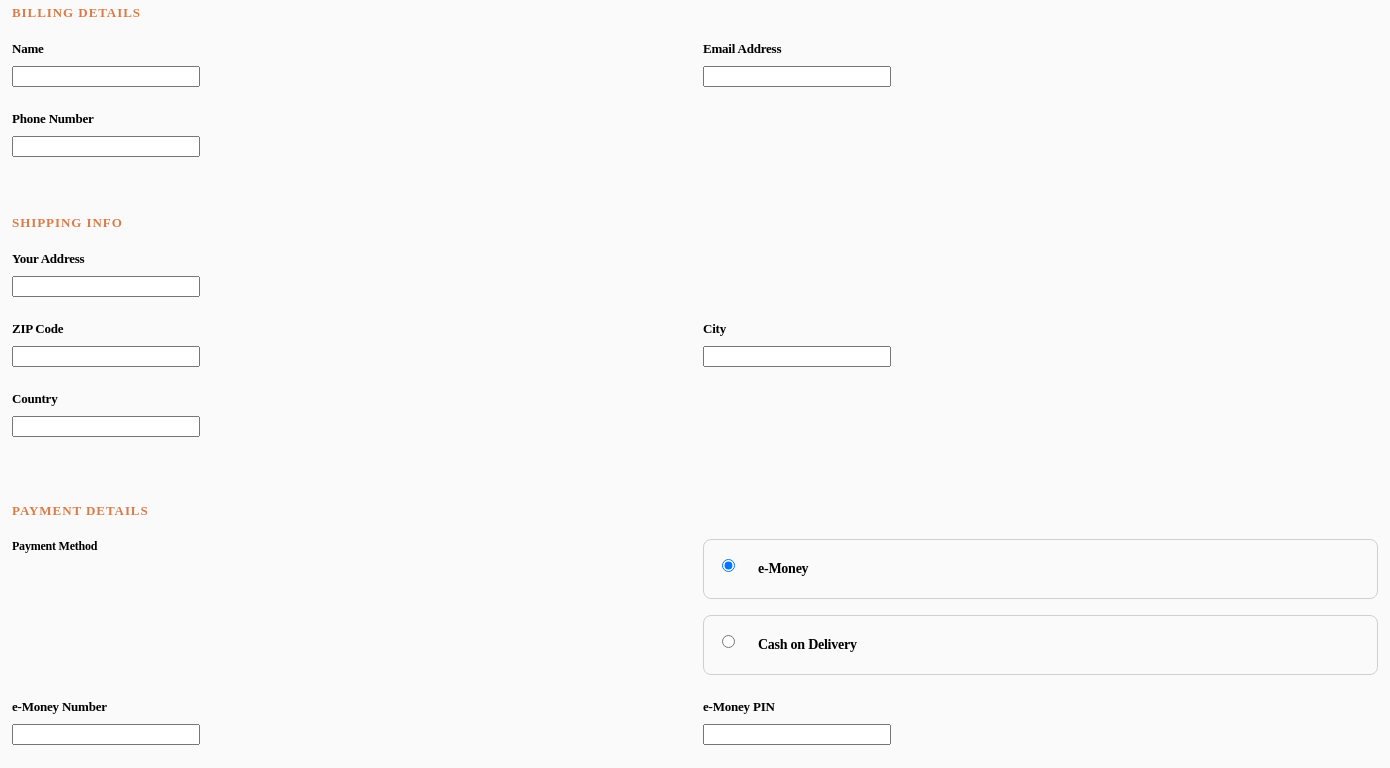
Test: PaymentDetails › Interactions › displays a required error message in e-Money PIN field when it was touched and then blurred leaving it with an empty value
The width and height of the screenshot is (1390, 768).
Click the field labelled "e-Money PIN" at (797, 734), box [703,724,891,745]
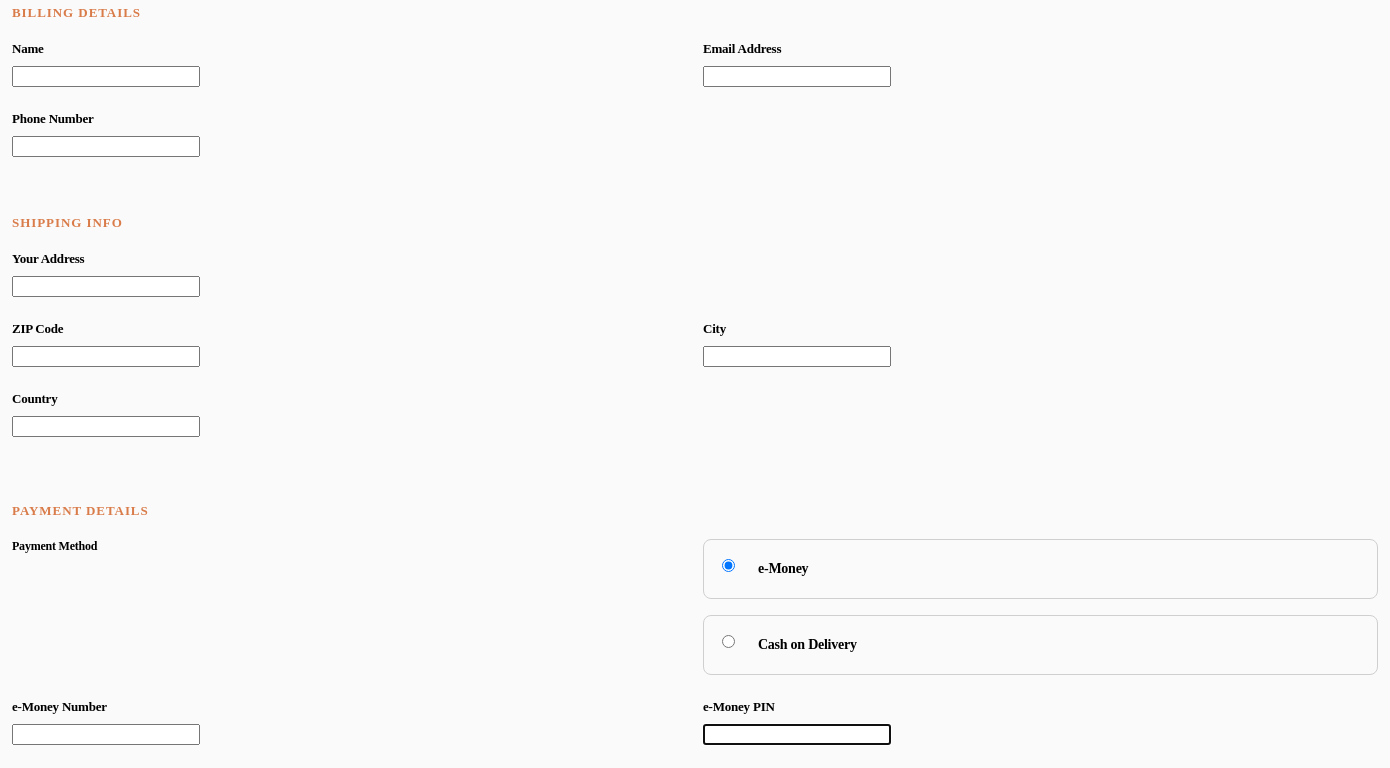
Click the element that starts with "Billing Details" at (695, 384), box [12,0,1378,767]
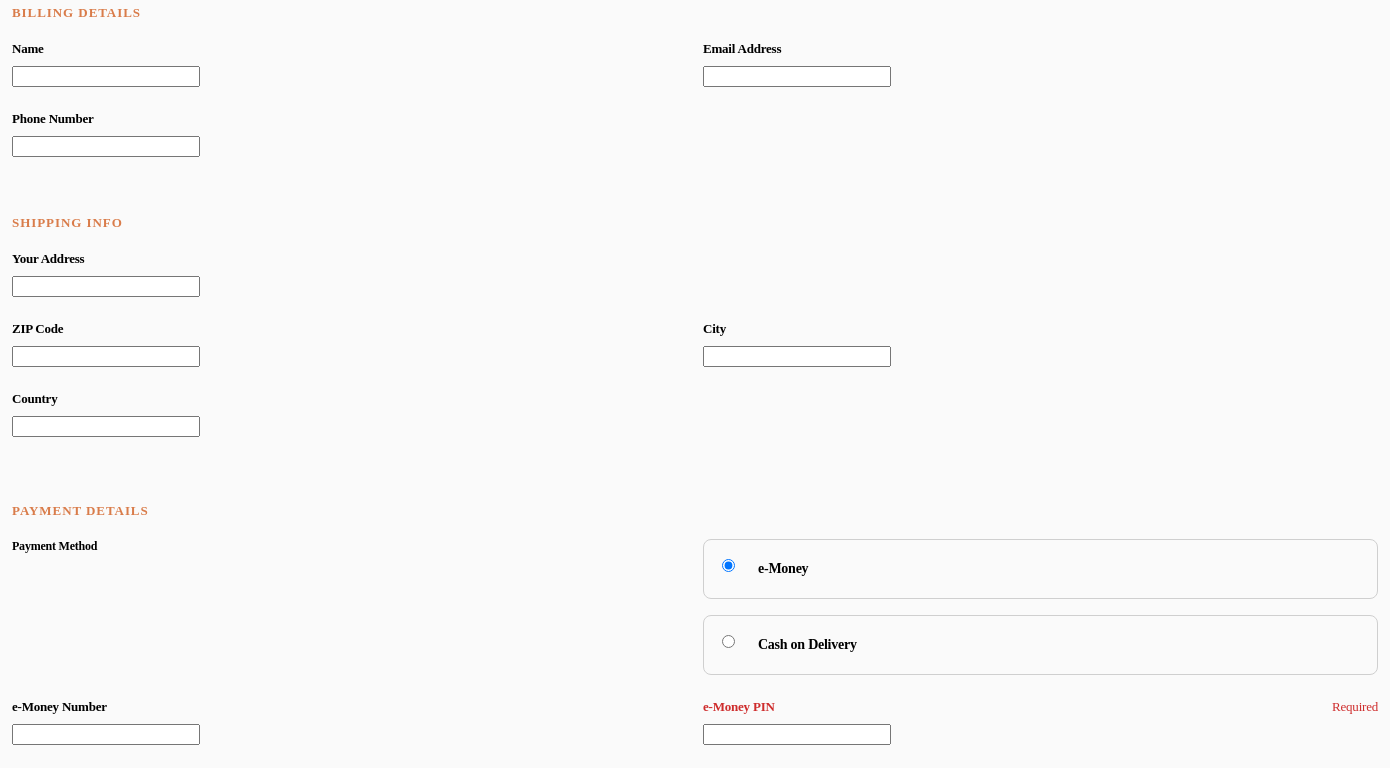
Now the text "Required" is shown, box [1332,699,1378,715]
